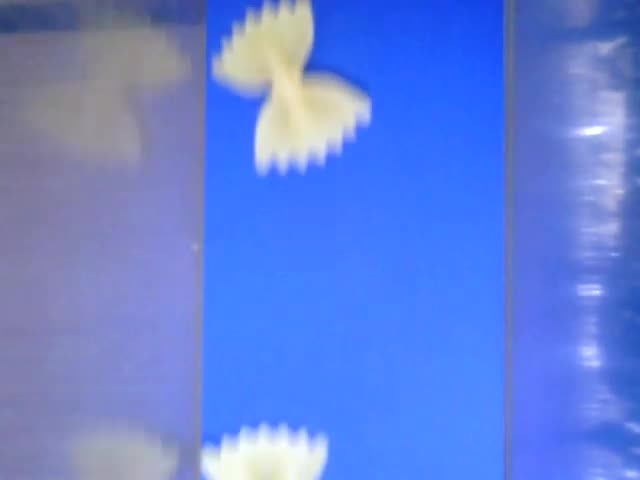farfalle: (213, 1, 371, 175), (202, 422, 328, 480)
